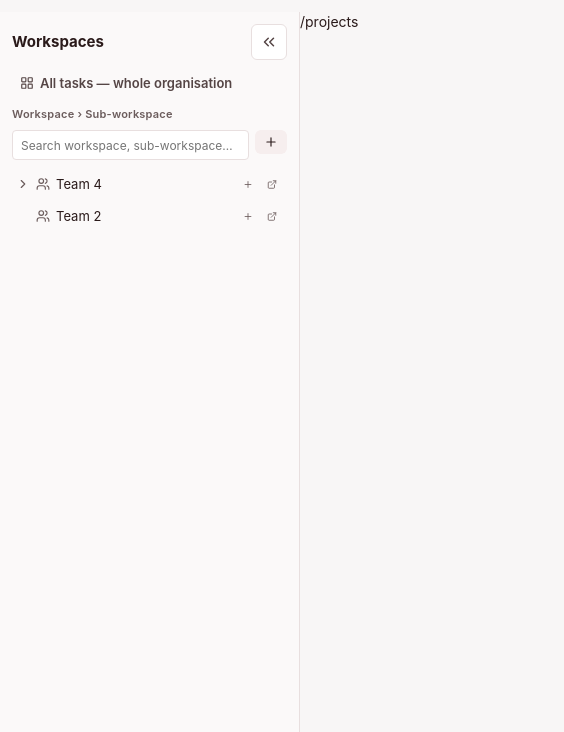
Scenario: Projects tree: Workspace > Sub-workspace, each opening its tasks › a workspace opens its tasks and expands; a sub-workspace opens them filtered by workspace and itself
Click the text "Team 4".
click(79, 184)  # box [56, 175, 102, 194]
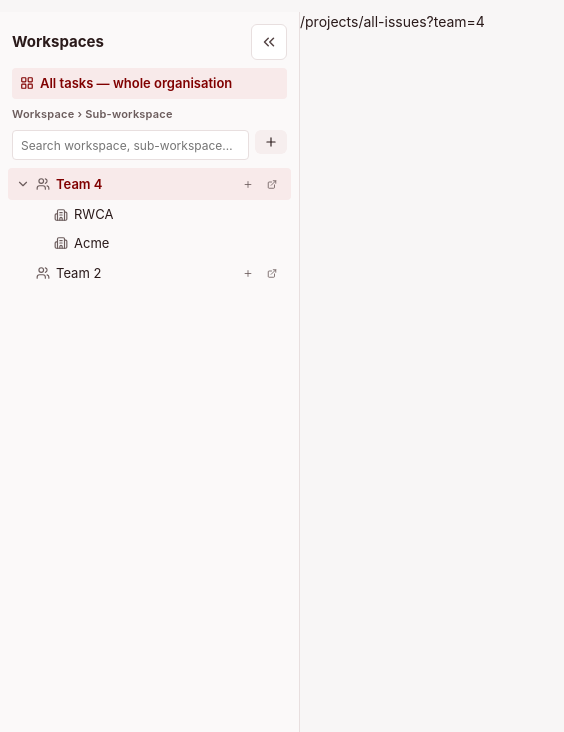
Check: the text with test id "where" reads "/projects/all-issues?team=4", box [300, 13, 485, 30]
Check: the text "RWCA" is shown
Click the text "RWCA".
click(94, 215)  # box [74, 205, 113, 224]
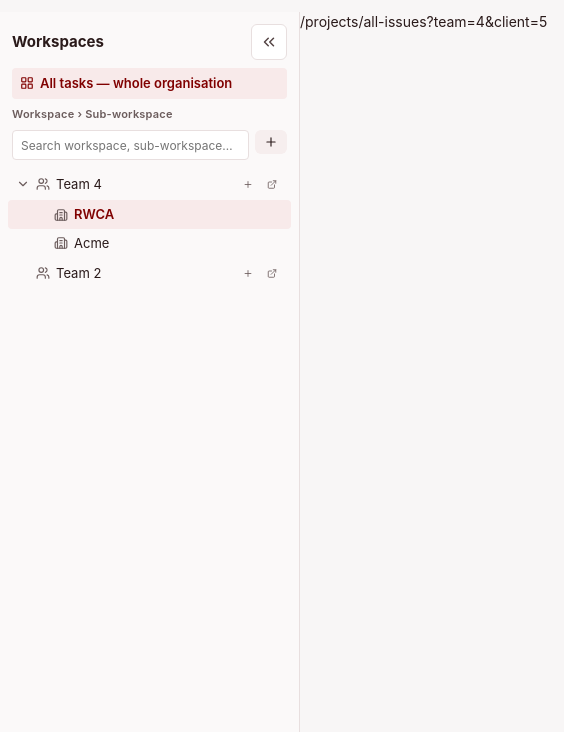
Check: the text with test id "where" reads "/projects/all-issues?team=4&client=5", box [300, 13, 547, 30]
Click the text "Team 2".
click(79, 274)  # box [56, 264, 101, 283]
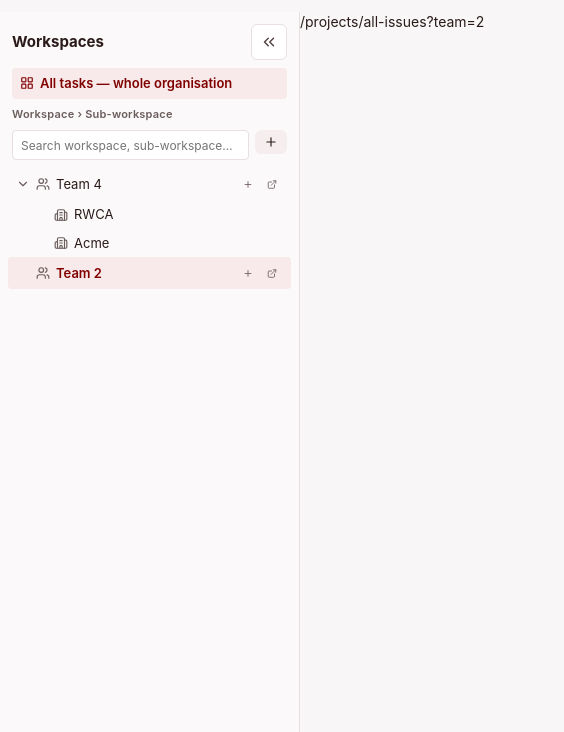
Check: the text with test id "where" reads "/projects/all-issues?team=2", box [300, 13, 484, 30]
